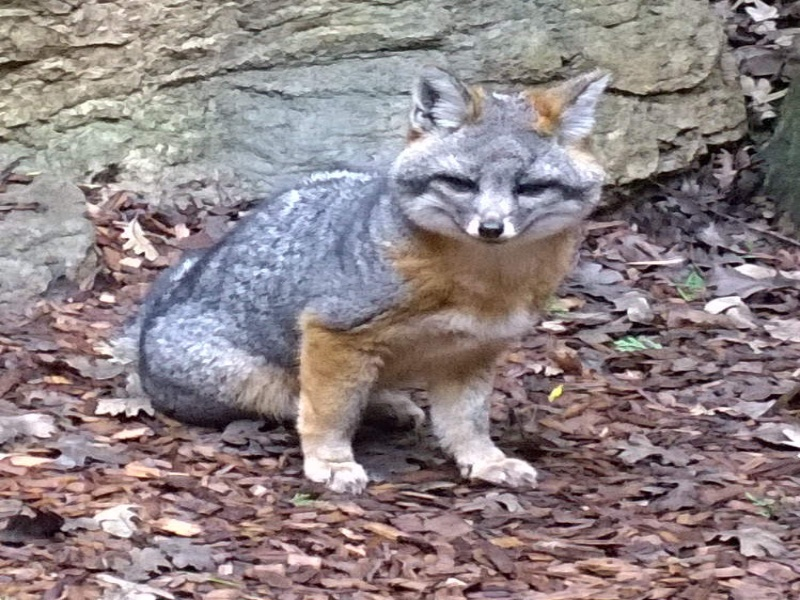fox: (134, 62, 621, 501)
